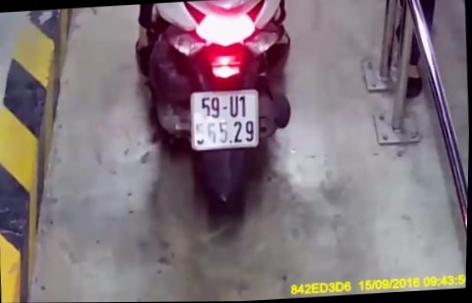LP: (190, 88, 261, 152)
